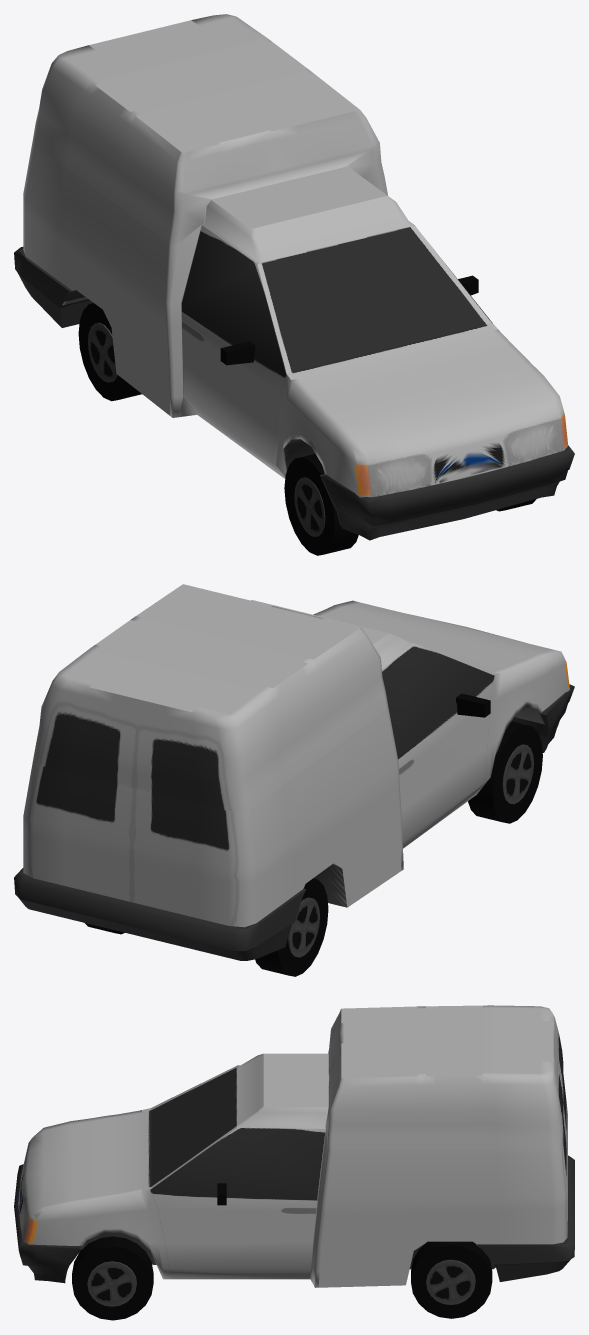
File: HalfVan.fbx
3 views of the same model, one above another, from view 1: azimuth 30°, elevation 25°; view 2: azimuth 150°, elevation 25°; view 3: azimuth 270°, elevation 25° (orthographic). The views are drawn at different scales.
Parts seen in each view (by area): view 1: HalfVan; view 2: HalfVan; view 3: HalfVan.
Part boxes in pixels (bbox=[...]): HalfVan: bbox=[14, 14, 574, 555]; HalfVan: bbox=[14, 584, 574, 976]; HalfVan: bbox=[14, 1005, 574, 1320].
Bounding box in the file's own units: 0.0698 × 0.0754 × 0.1605.
Materials: 4 (2 with a texture image).
